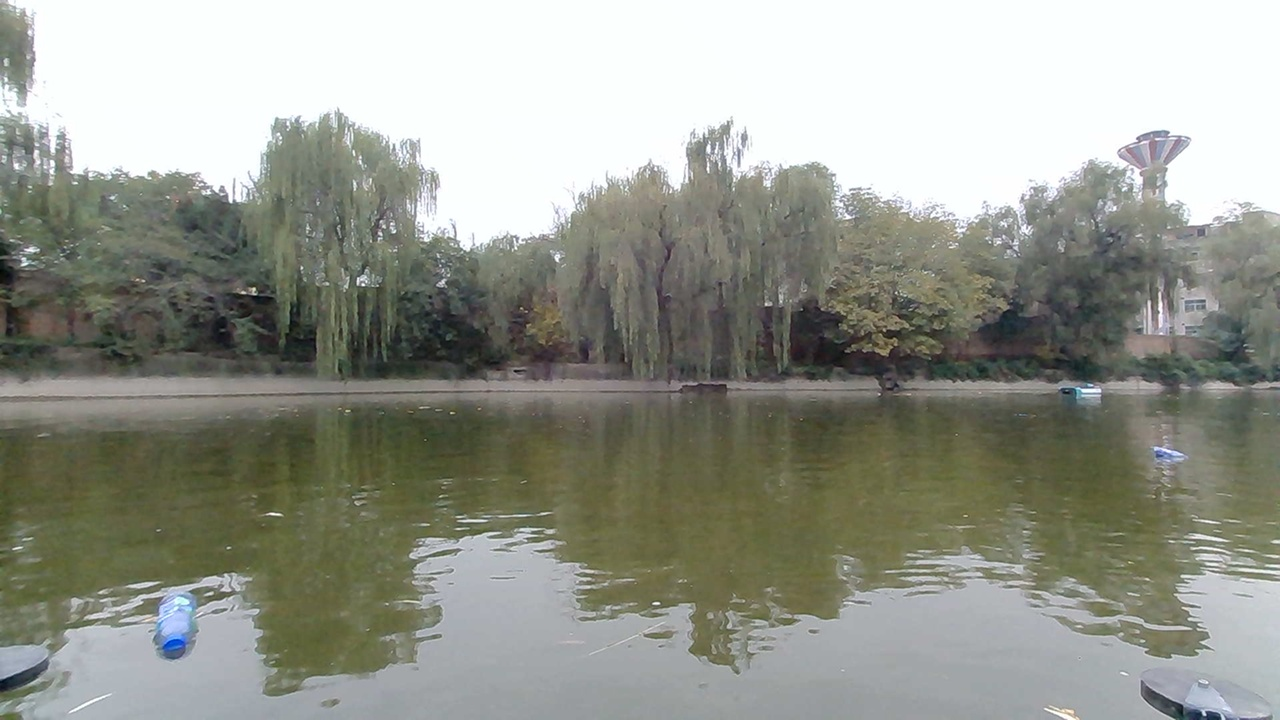bottle: (147, 587, 209, 659), (1148, 440, 1193, 474)
